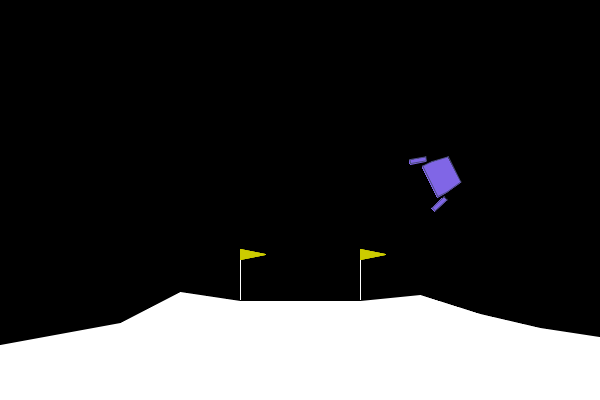lander: (407, 142, 469, 213)
